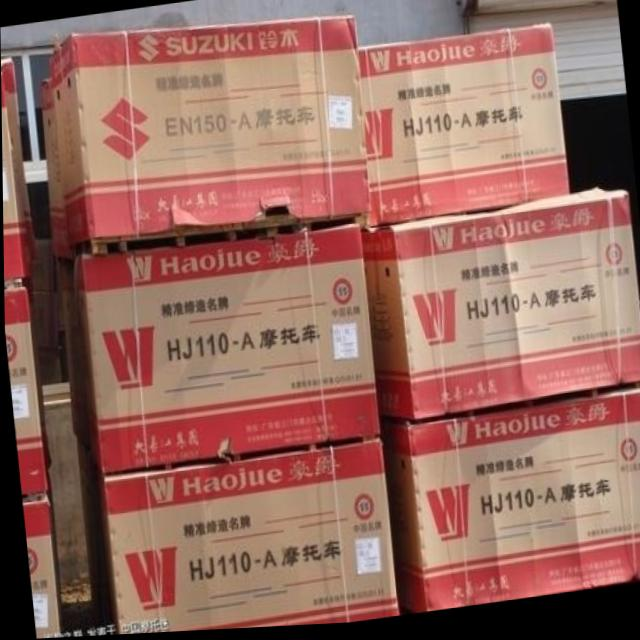box: (71, 228, 379, 475), (49, 21, 367, 246), (360, 192, 640, 423), (97, 441, 397, 636), (387, 394, 640, 618), (357, 30, 568, 232), (3, 285, 48, 496), (1, 56, 34, 279), (21, 500, 60, 639)
